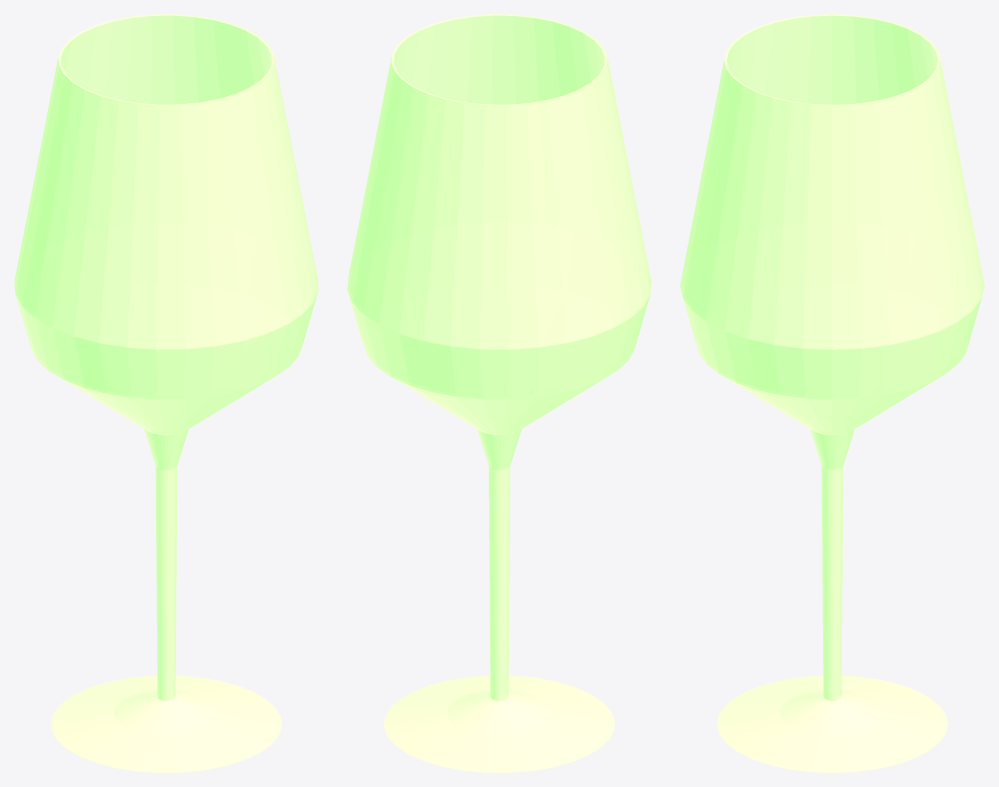
Rendered from uraniumbowl.fbx.
3 views of the same model, side by side, from view 1: azimuth 30°, elevation 25°; view 2: azimuth 150°, elevation 25°; view 3: azimuth 270°, elevation 25° (orthographic).
Visible parts, largest first — view 1: Glass; view 2: Glass; view 3: Glass.
Boxes of the visible parts, left/top/right/bottom form: Glass: left=14, top=14, right=318, bottom=772; Glass: left=347, top=14, right=651, bottom=772; Glass: left=680, top=14, right=984, bottom=772.
Bounding box in the file's own units: 106 × 255 × 106.
